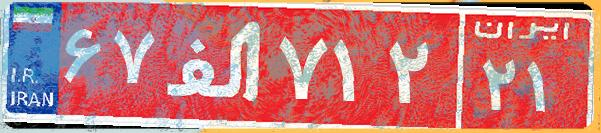1: (330, 28, 385, 110), (525, 38, 570, 115)
2: (385, 28, 445, 110), (475, 38, 525, 113)
6: (57, 26, 110, 107)
7: (273, 28, 330, 110), (110, 28, 158, 105)
الف: (158, 15, 273, 115)
